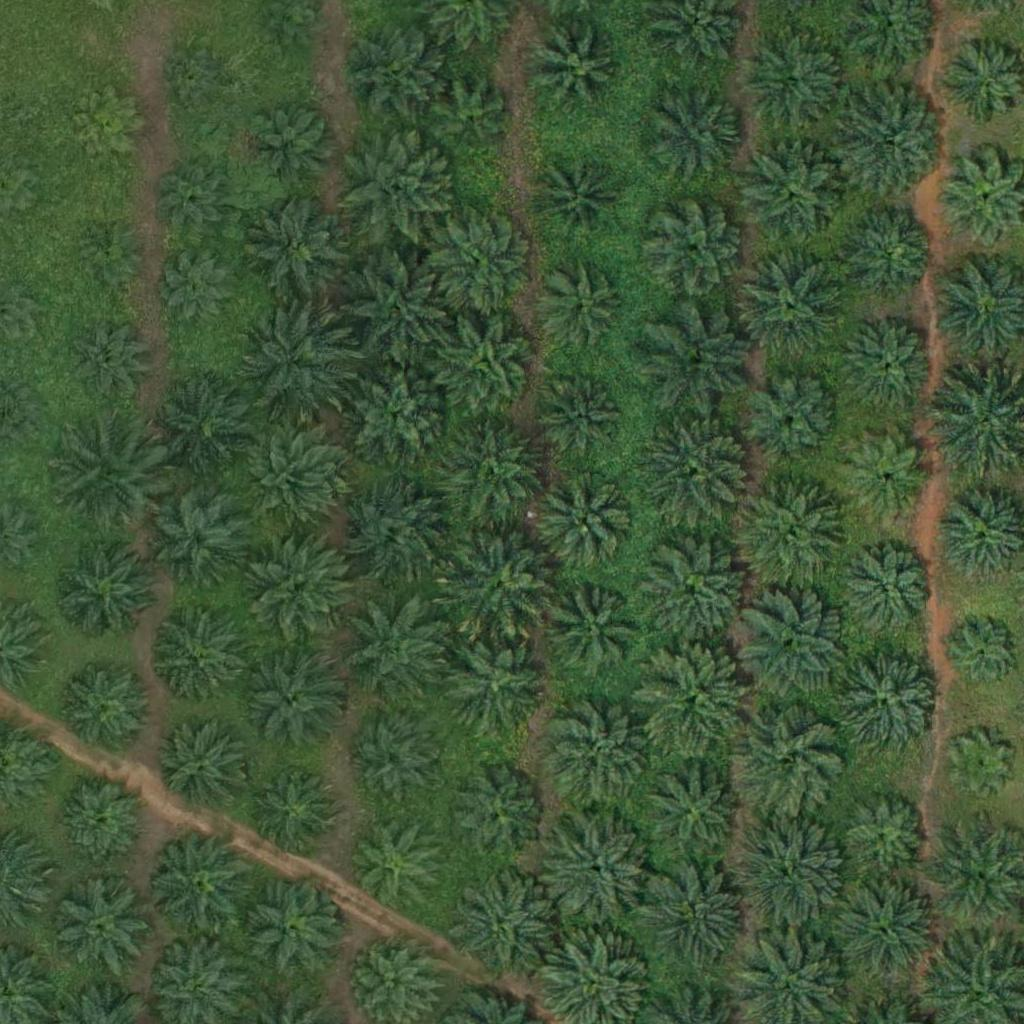Kelapa_Sawit: (149, 374, 262, 488), (145, 482, 258, 596), (736, 138, 849, 252), (836, 84, 949, 198), (446, 866, 559, 980), (241, 533, 354, 647), (342, 132, 455, 245), (642, 419, 755, 532), (637, 538, 750, 651), (730, 704, 843, 817), (734, 817, 847, 930), (635, 642, 748, 755), (637, 762, 750, 875), (236, 873, 349, 986), (54, 416, 166, 530), (543, 812, 655, 926), (339, 597, 451, 711), (236, 194, 348, 307), (237, 309, 349, 422), (342, 256, 454, 369), (339, 474, 451, 587), (443, 426, 555, 539), (642, 298, 754, 411), (735, 245, 847, 358), (732, 476, 844, 589), (834, 648, 946, 761), (828, 879, 940, 992), (734, 589, 846, 702), (638, 864, 750, 977), (544, 696, 656, 809), (440, 530, 552, 643), (143, 830, 255, 943), (145, 152, 245, 253), (350, 28, 450, 129), (349, 369, 449, 470), (438, 214, 538, 315), (436, 311, 536, 412), (528, 153, 628, 254), (535, 471, 635, 572), (644, 194, 744, 295), (741, 365, 841, 466), (541, 580, 641, 681), (54, 537, 154, 638), (55, 653, 155, 754), (51, 871, 151, 972), (245, 430, 345, 530), (652, 81, 752, 181), (744, 29, 844, 129), (838, 203, 938, 303), (838, 317, 938, 417), (444, 639, 544, 739), (445, 769, 545, 869), (344, 812, 444, 912), (241, 654, 341, 754), (148, 607, 248, 707), (246, 100, 334, 188), (843, 549, 931, 637), (840, 789, 928, 877), (156, 727, 244, 815), (58, 775, 146, 863), (538, 374, 625, 463), (541, 261, 628, 349), (843, 433, 930, 521), (346, 720, 433, 808), (244, 767, 331, 855), (70, 322, 145, 398), (542, 34, 617, 110), (437, 79, 512, 154), (162, 256, 225, 319), (75, 98, 138, 161), (82, 229, 145, 292), (954, 622, 1017, 685), (949, 733, 1012, 796), (166, 55, 228, 118)
